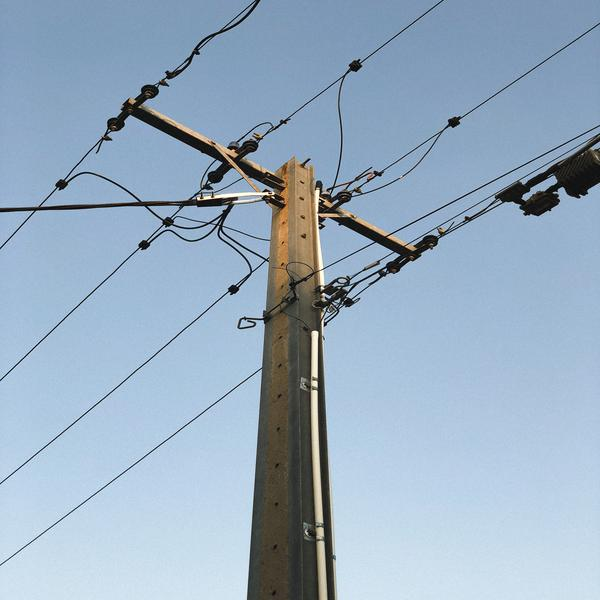utility_pole: (64, 37, 470, 397)
